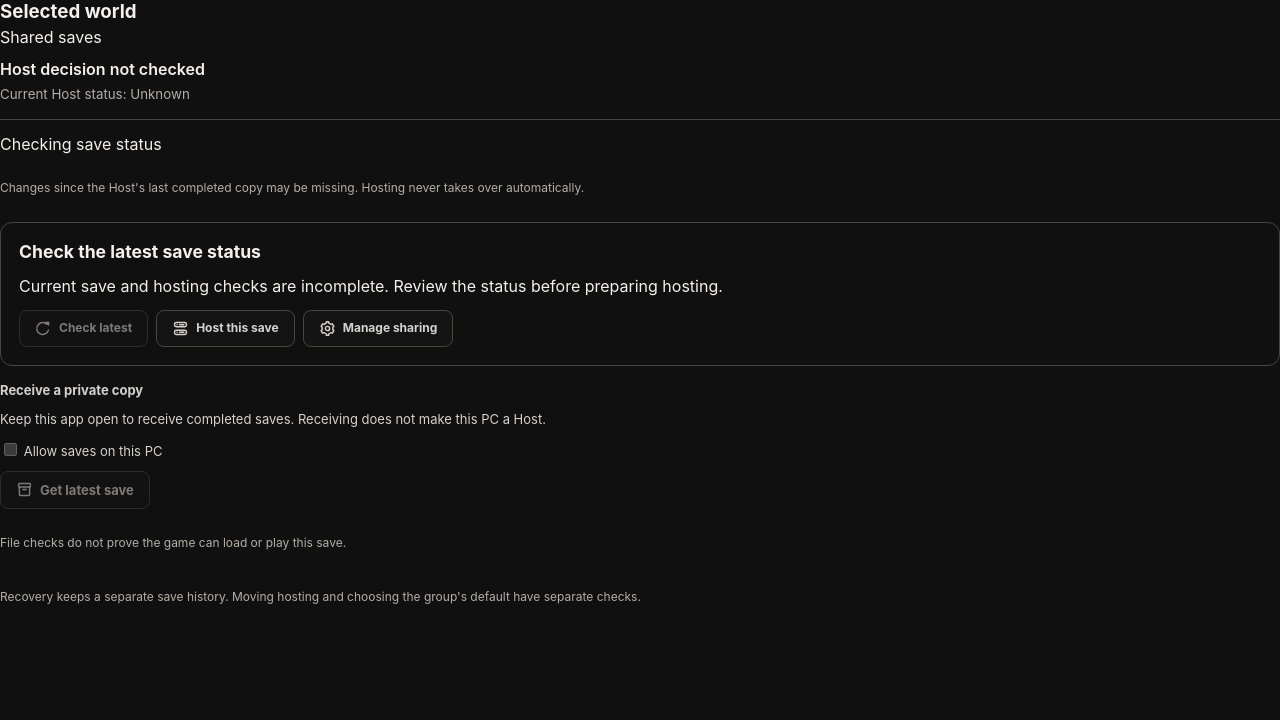
Test: shared-save UX evidence › keeps incomplete byte progress separate from verification and receipt, with canonical copy dates
The image size is (1280, 720).
What coordinates should you click on to do the following:
click the button "Manage sharing"
I would click on:
 (378, 328)
Its box is [303, 310, 453, 347].
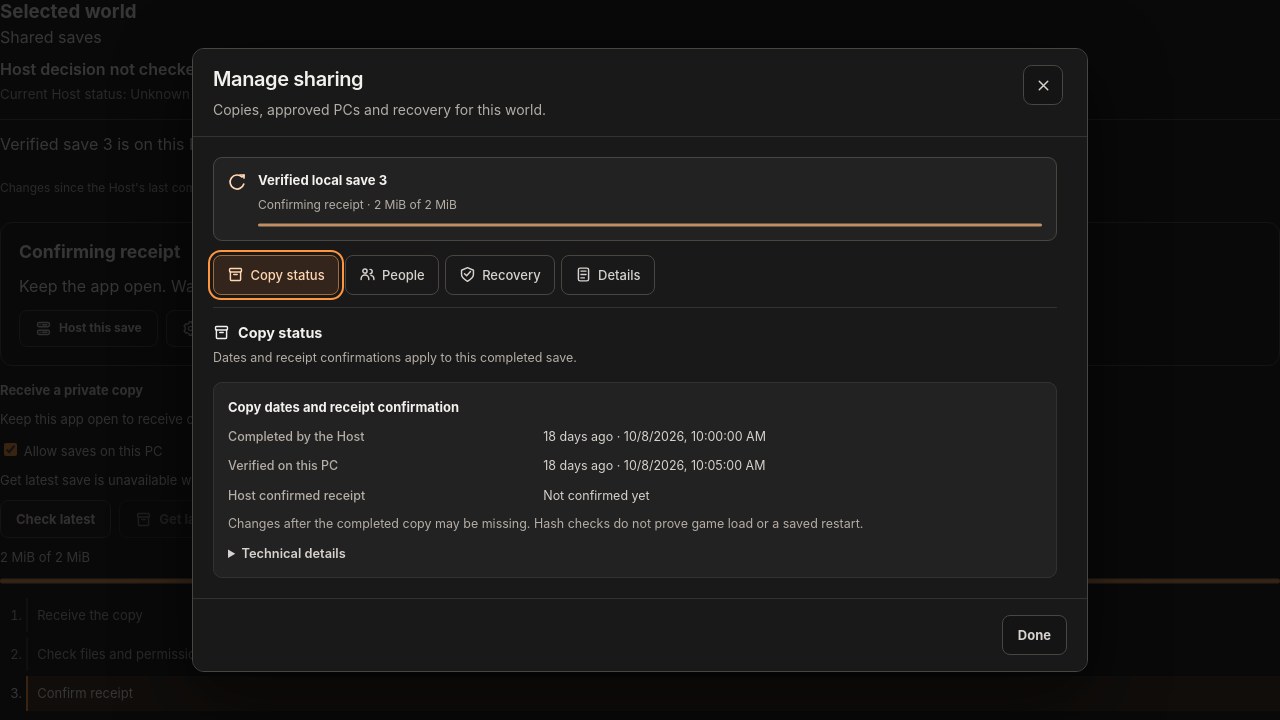
Check: the heading "Confirming receipt" is shown, box [19, 241, 180, 262]
Check: the element named "Save transfer progress" shows "2 MiB of 2 MiB", box [0, 548, 1279, 719]
Check: the text "Not confirmed yet" is shown, box [543, 488, 650, 503]
